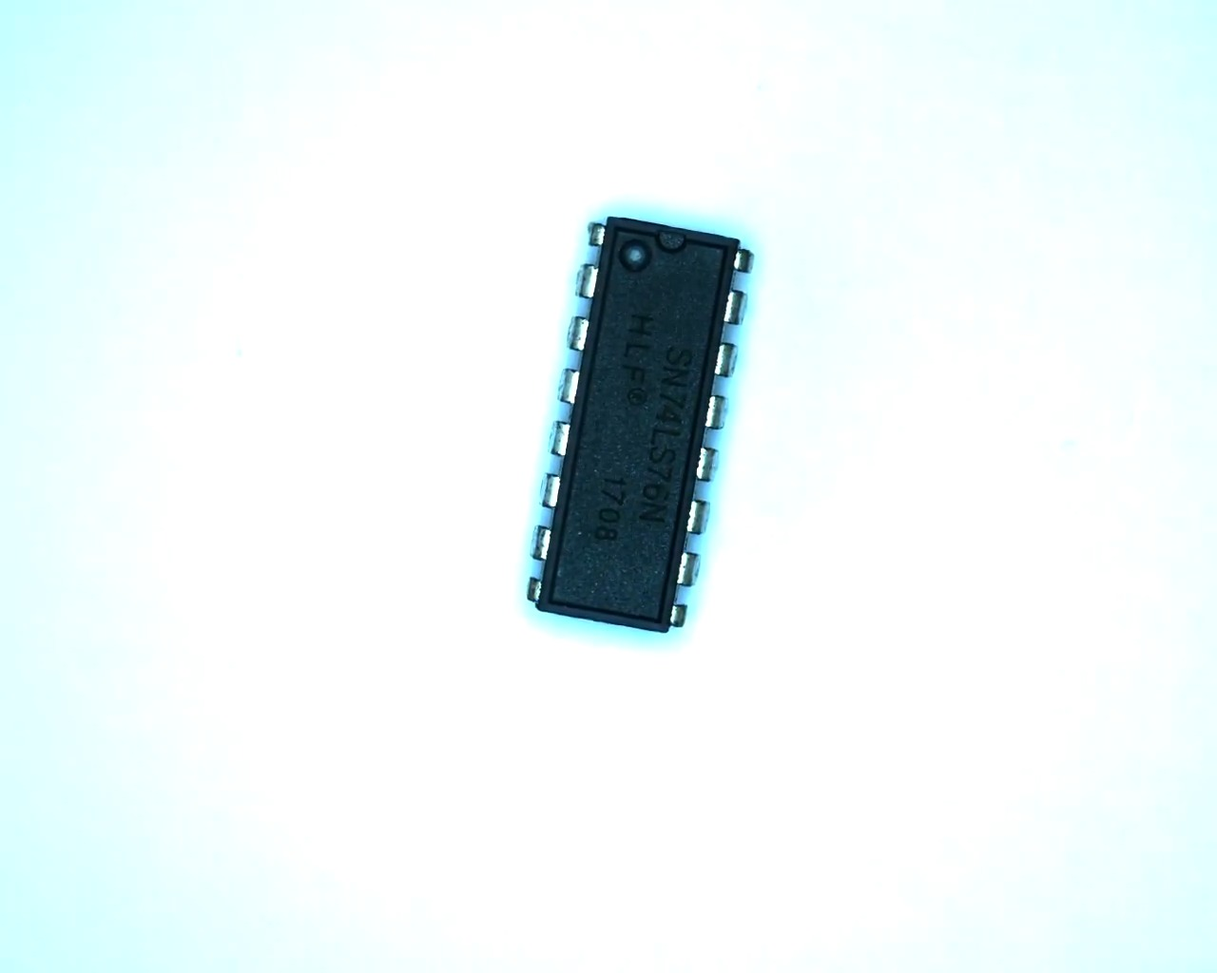IC: (514, 206, 763, 643)
notch: (652, 217, 690, 259)
